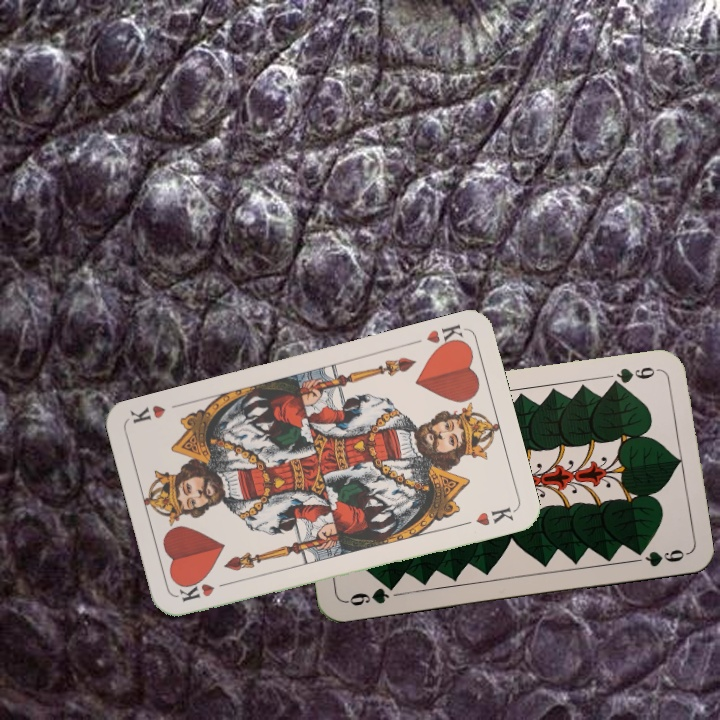G9: (342, 579, 399, 609), (606, 362, 662, 389)
HK: (174, 577, 234, 605), (422, 320, 469, 353)
